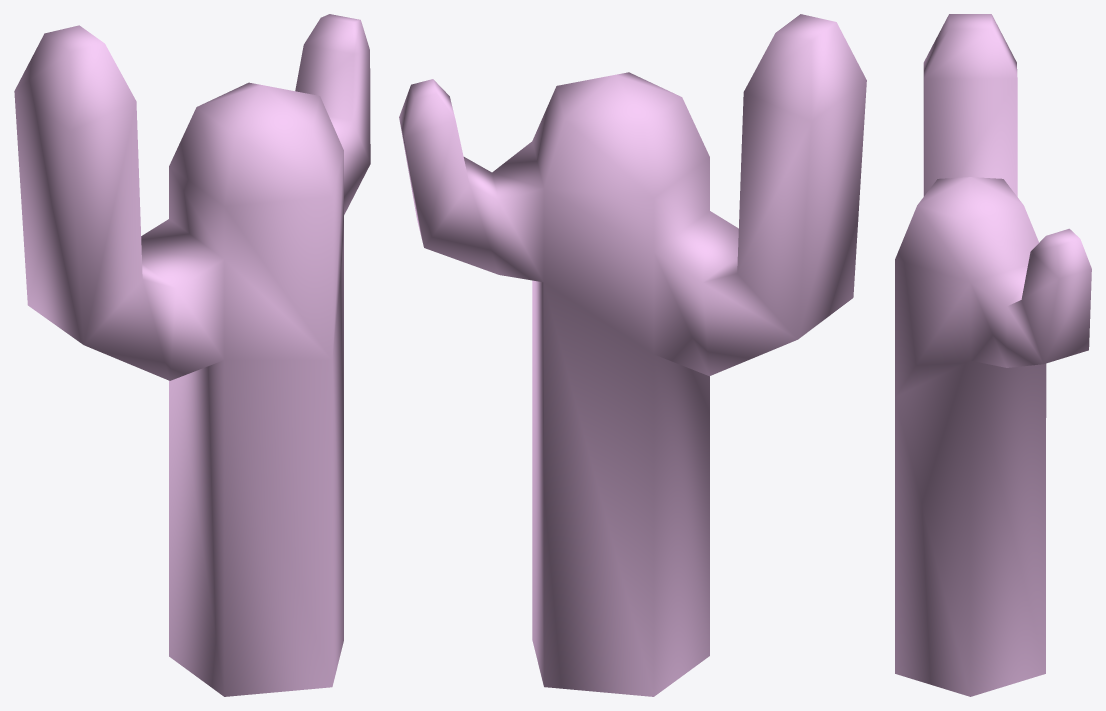
The picture shows the model from 3 angles, left to right: view 1: azimuth 30°, elevation 25°; view 2: azimuth 150°, elevation 25°; view 3: azimuth 270°, elevation 25°; orthographic projection. The views are drawn at different scales.
Parts seen in each view (by area): view 1: Object26; view 2: Object26; view 3: Object26.
Boxes of the visible parts, bbox=[...] form: Object26: bbox=[14, 14, 370, 696]; Object26: bbox=[399, 14, 866, 696]; Object26: bbox=[895, 14, 1091, 696].
Bounding box in the file's own units: 62.46 × 105 × 33.11.
